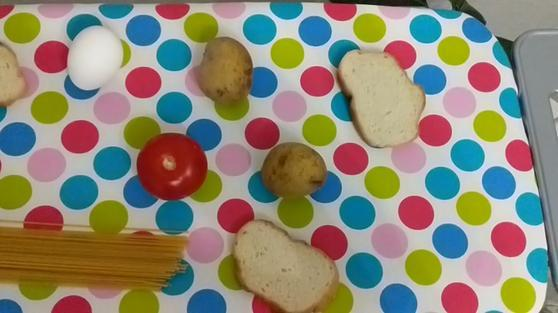egg: (60, 19, 131, 90)
potato: (188, 32, 259, 105), (255, 140, 332, 202)
spaghetti: (1, 218, 199, 298)
tomato: (126, 131, 219, 204)
white_bread: (226, 216, 359, 313), (330, 37, 433, 148)
